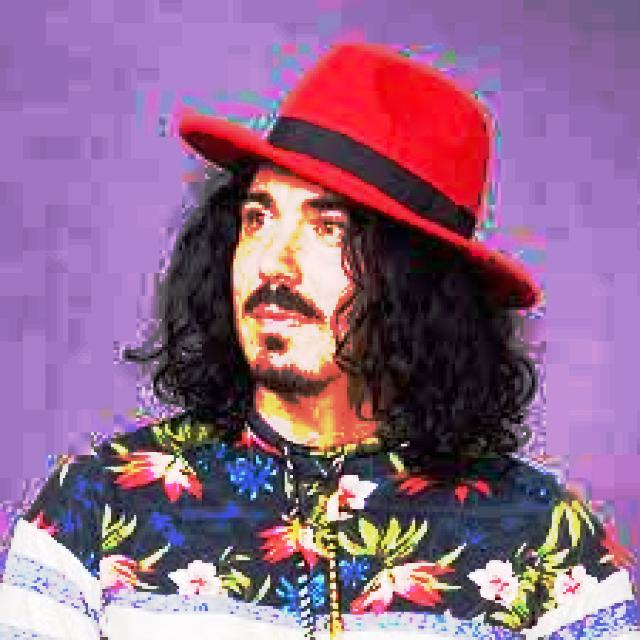TOPI: (171, 37, 546, 310)
